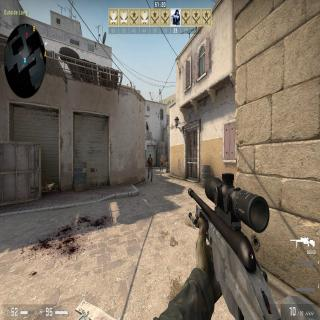T-Body: (146, 153, 154, 182), (160, 156, 164, 173)
T-Head: (149, 154, 151, 159), (161, 156, 162, 160)
